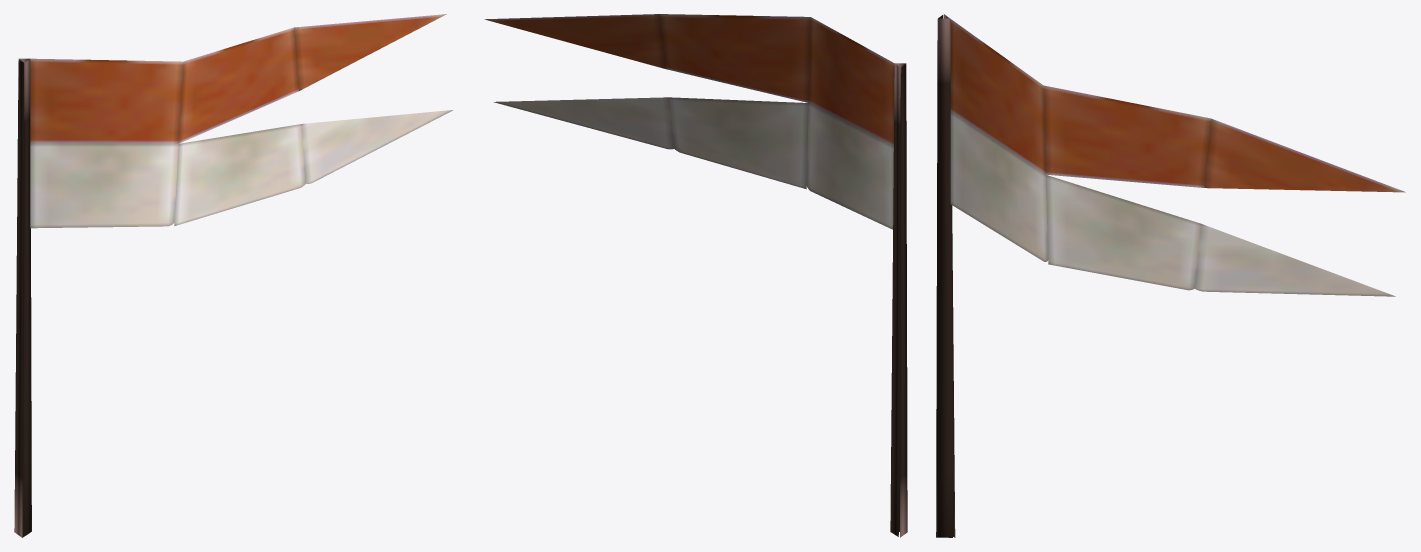
3 views of the same model, side by side, from view 1: azimuth 30°, elevation 25°; view 2: azimuth 150°, elevation 25°; view 3: azimuth 330°, elevation 25° (orthographic). The views are drawn at different scales.
Parts seen in each view (by area): view 1: T1L9M003_21; view 2: T1L9M003_21; view 3: T1L9M003_21.
Boxes of the visible parts, bbox=[...] form: T1L9M003_21: bbox=[14, 14, 453, 537]; T1L9M003_21: bbox=[484, 14, 907, 537]; T1L9M003_21: bbox=[936, 14, 1405, 537].
Bounding box in the file's own units: 1.73 × 1.83 × 0.2752.
